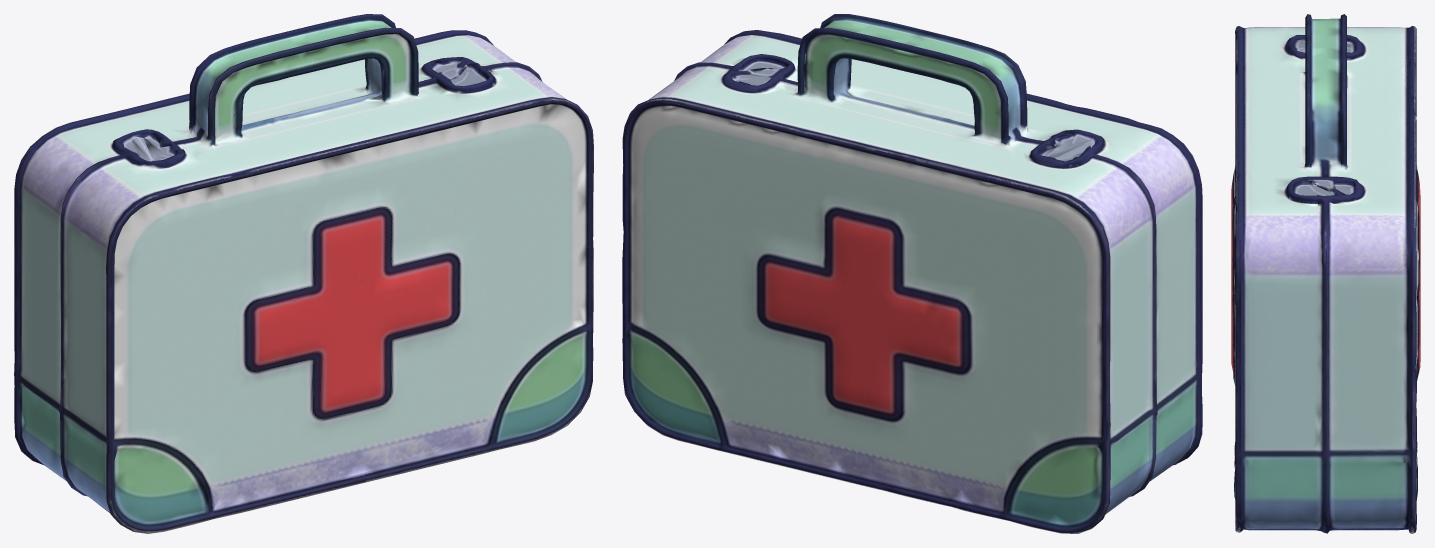
The model's file is botiquin.fbx.
3 views of the same model, side by side, from view 1: azimuth 30°, elevation 25°; view 2: azimuth 150°, elevation 25°; view 3: azimuth 270°, elevation 25° (orthographic). The views are drawn at different scales.
Parts seen in each view (by area): view 1: Mesh_0; view 2: Mesh_0; view 3: Mesh_0.
Boxes of the visible parts, bbox=[...] form: Mesh_0: bbox=[14, 14, 593, 533]; Mesh_0: bbox=[622, 14, 1202, 533]; Mesh_0: bbox=[1231, 14, 1420, 533].
Bounding box in the file's own units: 190 × 155 × 67.93.
Materials: 1 (1 with a texture image).
